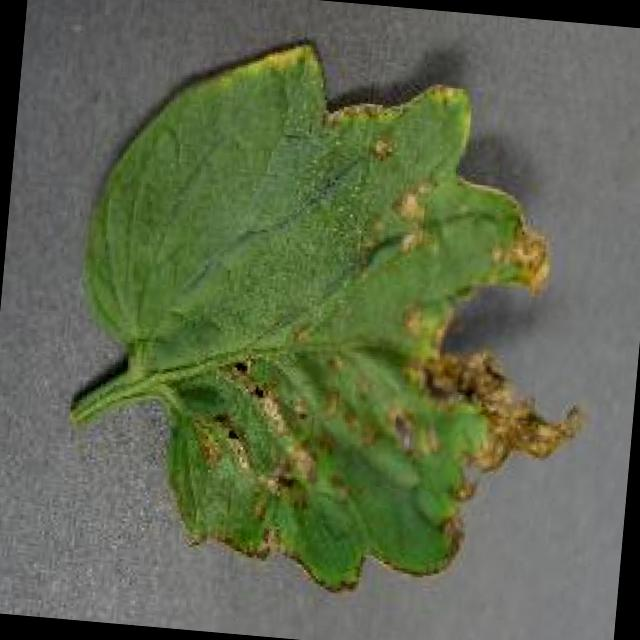bacterial spot: (76, 40, 594, 593)
